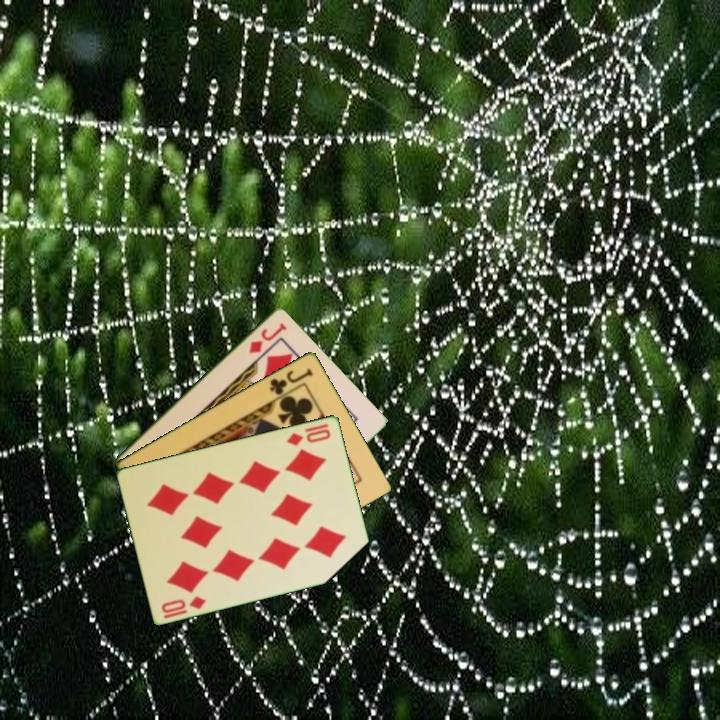10d: (158, 592, 209, 616), (283, 425, 334, 448)
Jc: (266, 364, 316, 398)
Jd: (245, 319, 290, 356)
